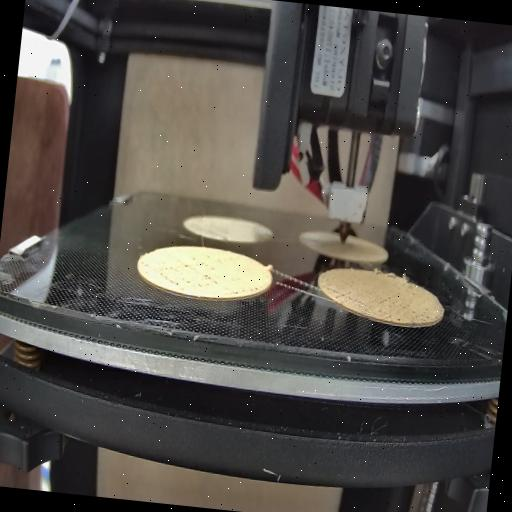under_extrusion: (157, 252, 221, 296), (372, 290, 432, 326), (323, 284, 362, 306), (234, 283, 263, 300)
